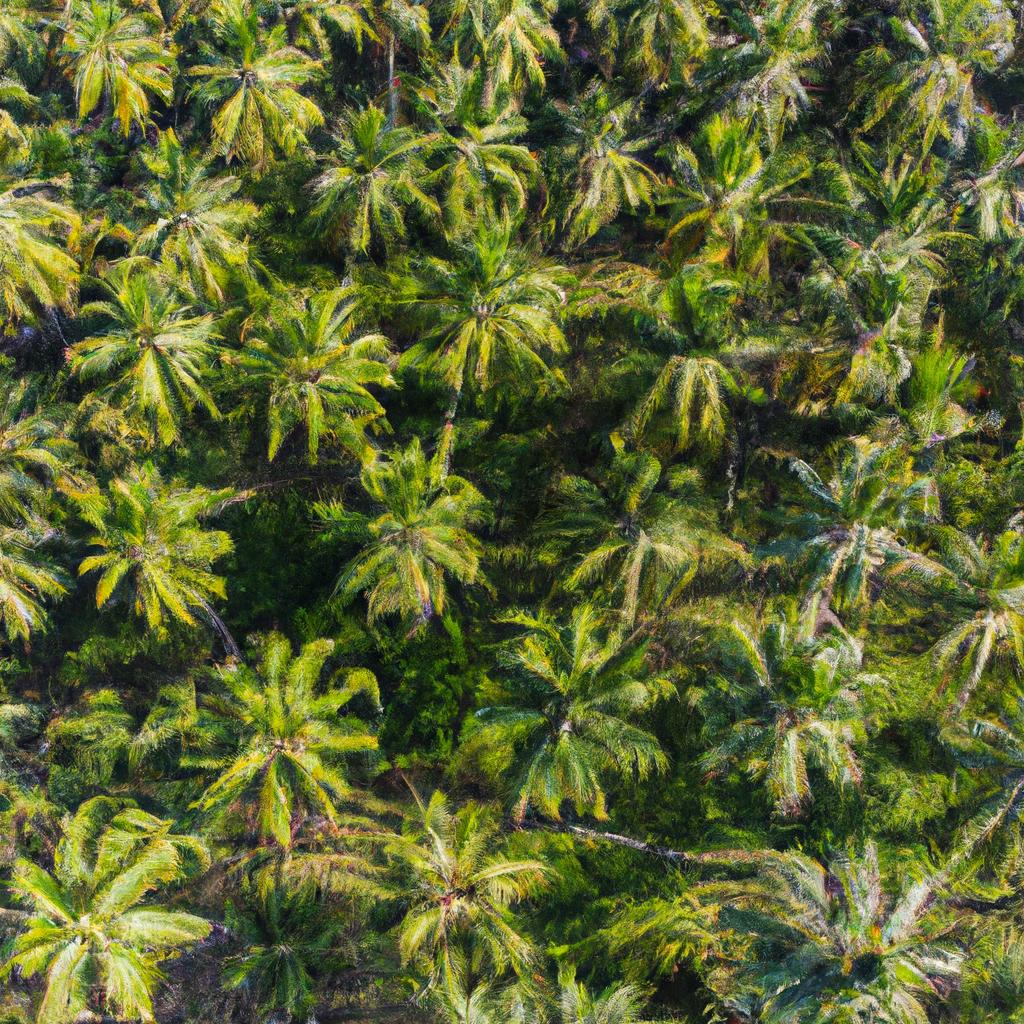coconut_tree: (1, 791, 221, 1023), (467, 604, 675, 816), (370, 799, 564, 1021), (689, 613, 892, 812), (208, 639, 383, 828), (70, 251, 235, 431), (339, 447, 505, 624), (234, 288, 415, 448), (407, 242, 580, 402), (75, 477, 251, 624), (135, 161, 272, 302), (47, 1, 197, 123), (191, 28, 329, 159), (315, 107, 432, 248)
